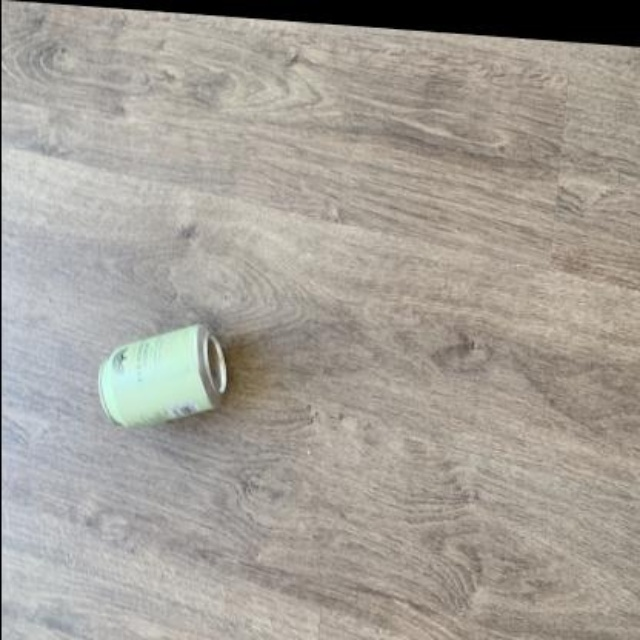trash: (98, 325, 225, 426)
